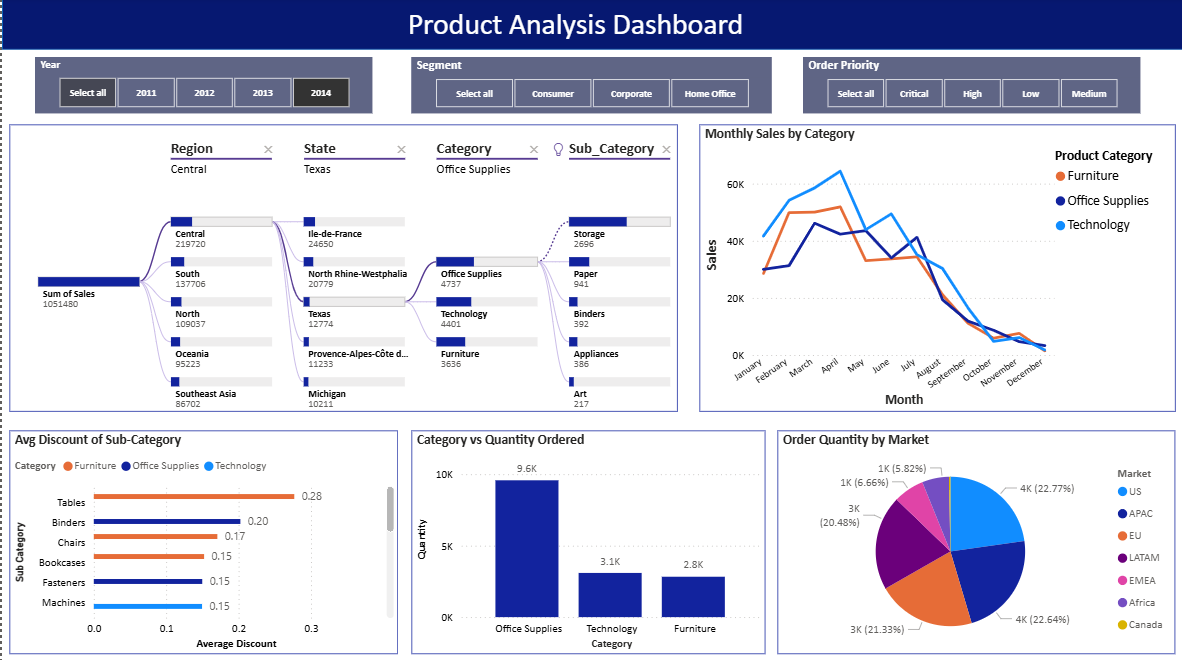

This screenshot's page, from the dashboard's own definition file:
{"tool":"powerbi","page":{"name":"ProductAnalysis-Dashboard","canvas":[1280,720],"ordinal":1},"visuals":[{"type":"lineChart","title":"Monthly Sales by Category","fields":{"Category":["Orders.order_date.Variation.Date Hierarchy.Month"],"Y":["Sum(Orders.sales)"],"Series":["Orders.category"]},"box":[16.9,141,472.1,259],"z":0},{"type":"columnChart","title":"Category vs Quantity Ordered","fields":{"Category":["Orders.category"],"Y":["Sum(Orders.quantity)"]},"box":[500,137.7,376,251.4],"z":1000},{"type":"shape","box":[0,0,1280.3,57.4],"z":2000},{"type":"textbox","title":"Product Analysis Dashboard","box":[372.1,9.3,493,38.4],"z":3000},{"type":"slicer","fields":{"Values":["Orders.order_date.Variation.Date Hierarchy.Year"]},"box":[0,59,451.9,58.5],"z":4000},{"type":"slicer","fields":{"Values":["Orders.segment"]},"box":[437.7,59,429.5,60.7],"z":5000},{"type":"slicer","fields":{"Values":["Orders.order_priority"]},"box":[865.6,59,409.3,63.4],"z":6000},{"type":"pieChart","fields":{"Y":["Sum(Orders.quantity)"],"Category":["Orders.market"]},"box":[875.4,137.7,388,251.9],"z":6001},{"type":"barChart","title":"Avg Discount of Sub-category and category","fields":{"Y":["Avg(Orders.discount)"],"Category":["Orders.sub_category"],"Series":["Orders.category"]},"box":[17,410.5,472,259],"z":6002},{"type":"decompositionTreeVisual","fields":{"Analyze":["Sum(Orders.sales)"],"ExplainBy":["Orders.region","Orders.category","Orders.sub_category","Orders.state"]},"box":[500,411.5,762.8,295.1],"z":6003}]}

Visuals, with their boxes in screenshot pixels (x1, y1, x2, y2), scaled from the page's 1280x720 canvas onto the 1182x660 screenshot:
"Monthly Sales by Category" lineChart: (x1=16, y1=129, x2=452, y2=367)
"Category vs Quantity Ordered" columnChart: (x1=462, y1=126, x2=809, y2=357)
shape: (x1=0, y1=0, x2=1181, y2=53)
"Product Analysis Dashboard" textbox: (x1=344, y1=9, x2=799, y2=44)
slicer - Orders.order_date.Variation.Date Hierarchy.Year: (x1=0, y1=54, x2=417, y2=108)
slicer - Orders.segment: (x1=404, y1=54, x2=801, y2=110)
slicer - Orders.order_priority: (x1=799, y1=54, x2=1177, y2=112)
pieChart - Sum(Orders.quantity) x Orders.market: (x1=808, y1=126, x2=1167, y2=357)
"Avg Discount of Sub-category and category" barChart: (x1=16, y1=376, x2=452, y2=614)
decompositionTreeVisual - Sum(Orders.sales) x Orders.region: (x1=462, y1=377, x2=1166, y2=648)
